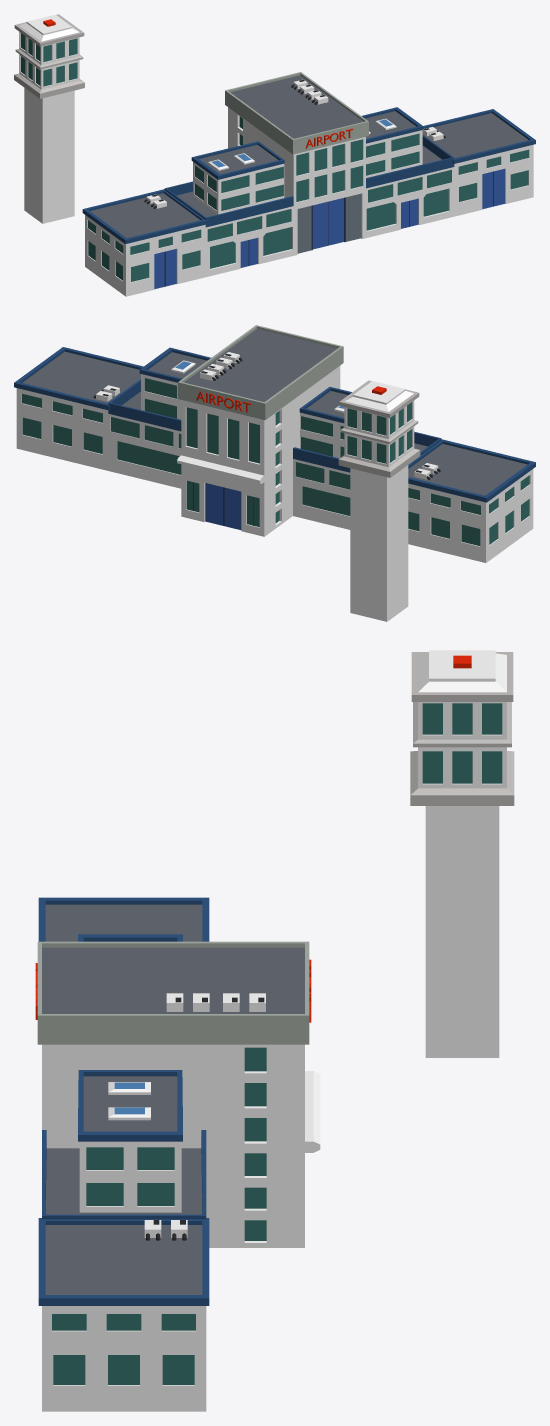
Rendered from Airport_1.fbx.
3 renders of one model, top to bottom at view 1: azimuth 30°, elevation 25°; view 2: azimuth 150°, elevation 25°; view 3: azimuth 270°, elevation 25°, orthographic. The views are drawn at different scales.
Parts seen in each view (by area): view 1: Airport_1, Light Tower_; view 2: Airport_1, Light Tower_; view 3: Airport_1, Light Tower_.
Part boxes in pixels (x1,y1,x2,y2): Airport_1: (82, 72, 535, 296); Light Tower_: (14, 14, 84, 223); Airport_1: (14, 325, 535, 562); Light Tower_: (338, 380, 420, 621); Airport_1: (35, 897, 320, 1411); Light Tower_: (410, 650, 514, 1057).
Size of the model in its own units: 7762 by 3459 by 3920.
